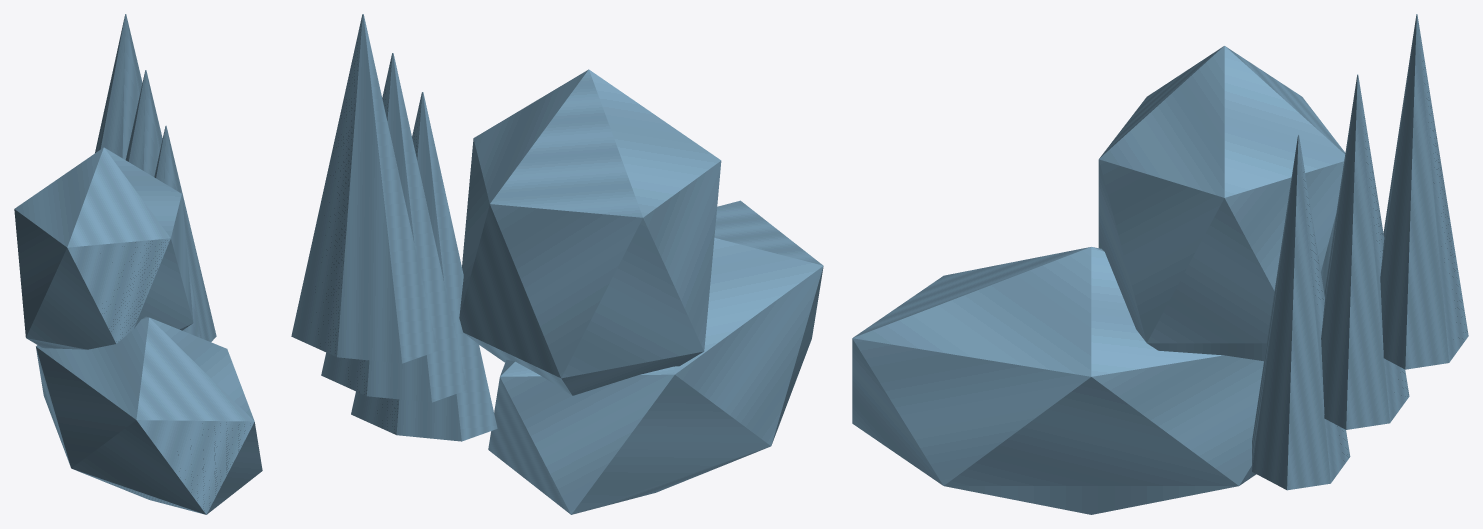
File: soul_return.glb
3 renders of one model, left to right at view 1: azimuth 30°, elevation 25°; view 2: azimuth 150°, elevation 25°; view 3: azimuth 270°, elevation 25°, orthographic. The views are drawn at different scales.
Parts seen in each view (by area): view 1: gear_soul_return; view 2: gear_soul_return; view 3: gear_soul_return.
Part boxes in pixels (bbox=[...]): gear_soul_return: bbox=[14, 14, 262, 514]; gear_soul_return: bbox=[291, 14, 823, 514]; gear_soul_return: bbox=[852, 14, 1468, 514].
Bounding box in the file's own units: 0.2431 × 0.42 × 0.4166.
Materials: 1 (1 with a texture image).
